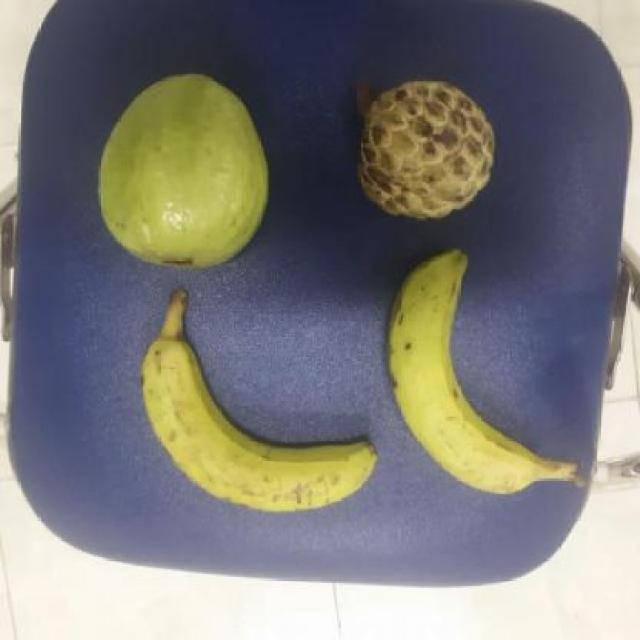banana: (136, 327, 389, 519), (385, 243, 553, 500)
guava: (95, 74, 278, 277)
sugar apple: (352, 79, 502, 226)
